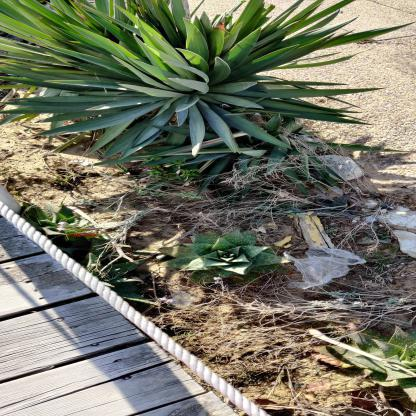plastik: (283, 245, 369, 291)
